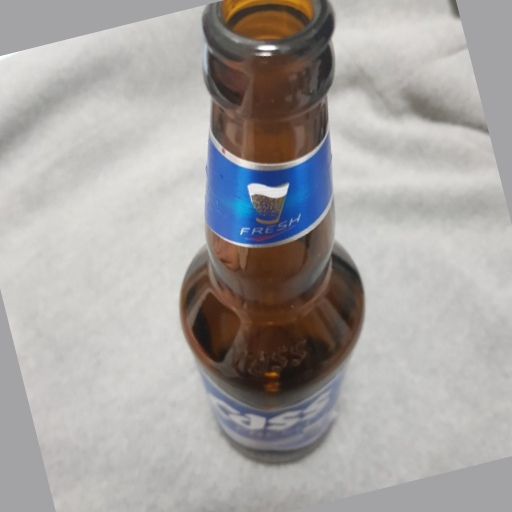Glass_1: (168, 1, 367, 468)
